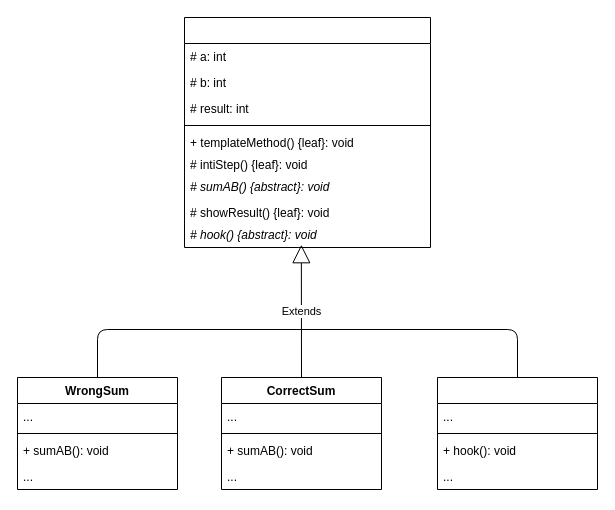
This 615x510 diagram has some shape labels left out. The box of each missing label's shape, as (x1, y1, x2, y2) in pixels:
RandSum: (436, 376, 598, 490)
SumOperation {abstract}: (184, 16, 430, 248)
